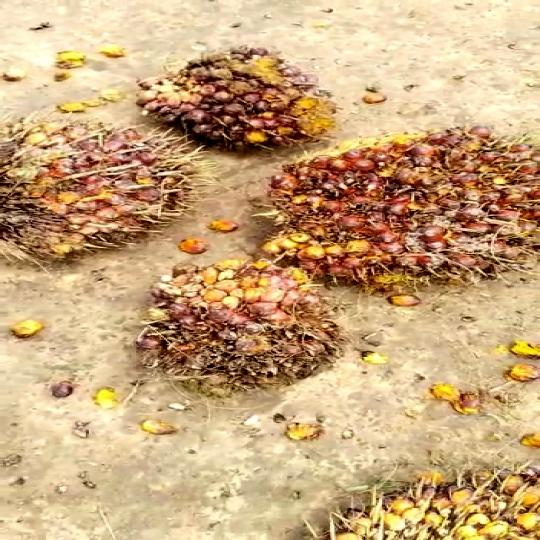masak: (239, 121, 540, 308), (143, 242, 357, 407), (0, 110, 189, 279), (130, 36, 343, 153)
